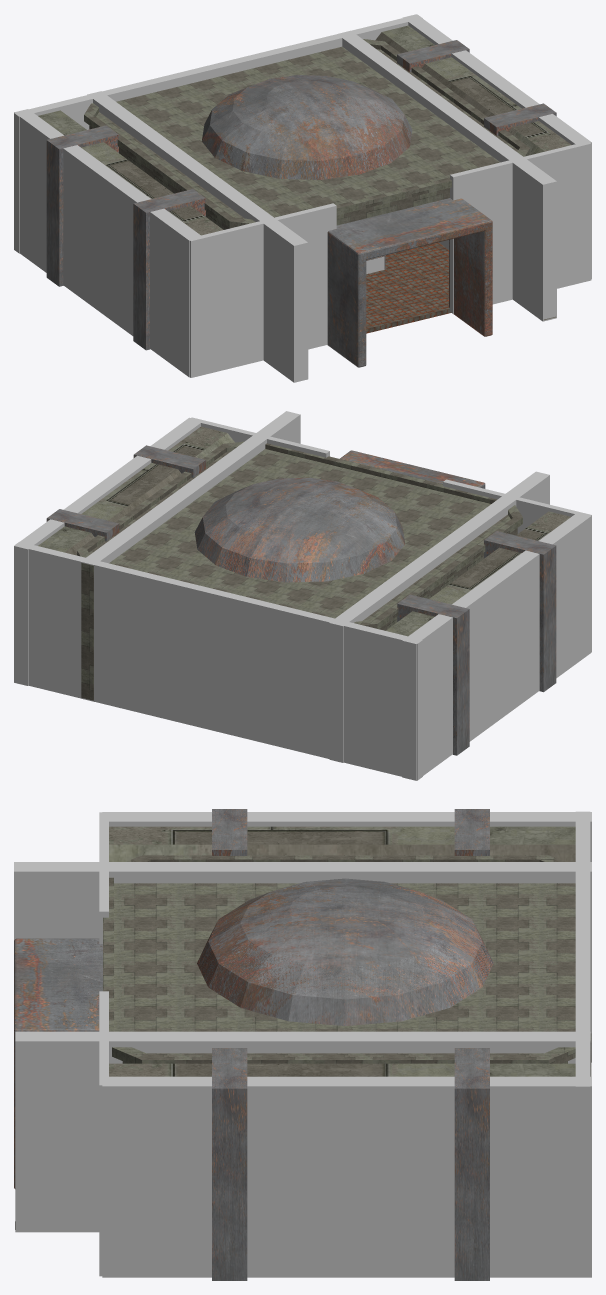
The model's file is Labo.obj.
3 views of the same model, one above another, from view 1: azimuth 30°, elevation 25°; view 2: azimuth 150°, elevation 25°; view 3: azimuth 270°, elevation 25° (orthographic). The views are drawn at different scales.
Parts seen in each view (by area): view 1: MainBuilding_Cube, cBox.004_Cube.066, Dome_Lab_Sphere.002, cBox.002_Cube.064, WallEntry_Cube.006, cBox.003_Cube.060, cBox.005_Cube.061, cBox.001_Cube.065, Cube.004_Cube.068, Ailes_Lab_Cube.007, cBox.006_Cube.062, Ground_Lab_Cube.004 (+1 smaller); view 2: cBox.006_Cube.062, MainBuilding_Cube, cBox.004_Cube.066, Dome_Lab_Sphere.002, Cube.004_Cube.068, Ailes_Lab_Cube.007, cBox.003_Cube.060, cBox.005_Cube.061, cBox_Cube.067, Cube.005_Cube.058, cBox.002_Cube.064, WallEntry_Cube.006 (+1 smaller); view 3: cBox_Cube.067, MainBuilding_Cube, Dome_Lab_Sphere.002, cBox.005_Cube.061, Cube.004_Cube.068, Ailes_Lab_Cube.007, cBox.003_Cube.060, WallEntry_Cube.006, cBox.006_Cube.062, cBox.004_Cube.066, cBox.001_Cube.065, cBox.002_Cube.064.
Boxes of the visible parts, x1,y1,x2,y2 form: MainBuilding_Cube: [84, 39, 530, 229]; cBox.004_Cube.066: [14, 109, 202, 377]; Dome_Lab_Sphere.002: [202, 75, 412, 179]; cBox.002_Cube.064: [190, 203, 336, 377]; WallEntry_Cube.006: [327, 198, 492, 367]; cBox.003_Cube.060: [87, 91, 308, 382]; cBox.005_Cube.061: [337, 30, 556, 321]; cBox.001_Cube.065: [450, 143, 591, 313]; Cube.004_Cube.068: [46, 40, 556, 350]; Ailes_Lab_Cube.007: [38, 25, 571, 235]; cBox.006_Cube.062: [14, 14, 422, 253]; Ground_Lab_Cube.004: [366, 242, 451, 333]; cBox.006_Cube.062: [14, 541, 422, 780]; MainBuilding_Cube: [77, 441, 522, 630]; cBox.004_Cube.066: [402, 512, 591, 780]; Dome_Lab_Sphere.002: [194, 477, 405, 582]; Cube.004_Cube.068: [46, 445, 556, 755]; Ailes_Lab_Cube.007: [38, 426, 570, 636]; cBox.003_Cube.060: [329, 471, 549, 762]; cBox.005_Cube.061: [80, 411, 300, 701]; cBox_Cube.067: [14, 417, 202, 685]; Cube.005_Cube.058: [81, 563, 93, 700]; cBox.002_Cube.064: [443, 479, 591, 651]; WallEntry_Cube.006: [339, 450, 485, 488]; cBox_Cube.067: [102, 1076, 591, 1277]; MainBuilding_Cube: [103, 855, 575, 1063]; Dome_Lab_Sphere.002: [197, 878, 493, 1025]; cBox.005_Cube.061: [15, 1031, 590, 1232]; Cube.004_Cube.068: [212, 809, 489, 1280]; Ailes_Lab_Cube.007: [109, 826, 575, 1076]; cBox.003_Cube.060: [14, 862, 591, 1062]; WallEntry_Cube.006: [14, 938, 102, 1188]; cBox.006_Cube.062: [575, 811, 590, 1277]; cBox.004_Cube.066: [102, 812, 591, 861]; cBox.001_Cube.065: [99, 991, 108, 1276]; cBox.002_Cube.064: [99, 812, 108, 943].
Size of the model in its own units: 53.5 by 21.3 by 46.73.
